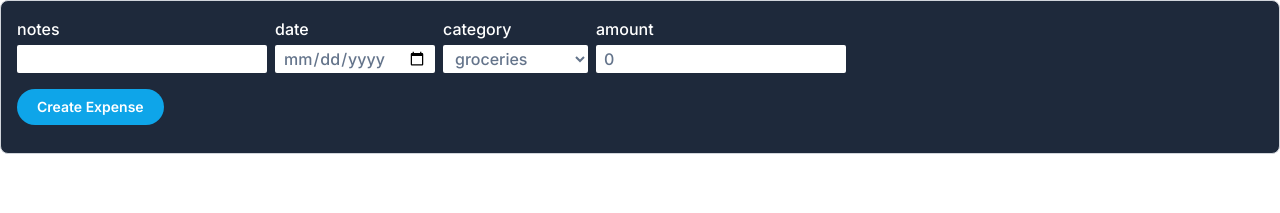
👉 test text in CreateExpense › after click on the button when there is no ❌ data
Click the button "Create Expense": click(90, 107) top-left (17, 89), bottom-right (164, 125)
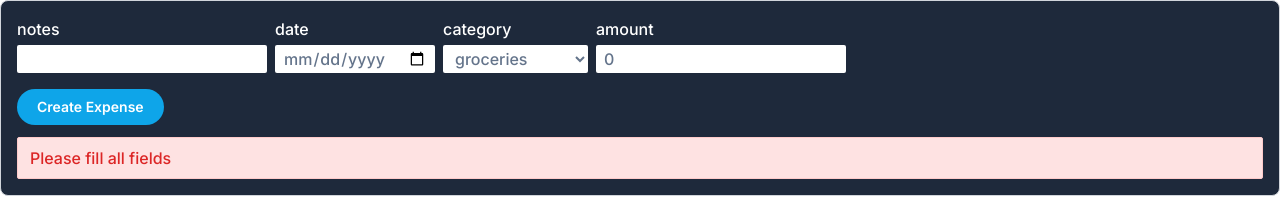
Result: the text "Please fill all fields" is shown at top-left (17, 137), bottom-right (1263, 179)
